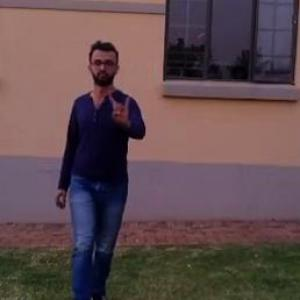takeoff-hand: (102, 90, 138, 126)
